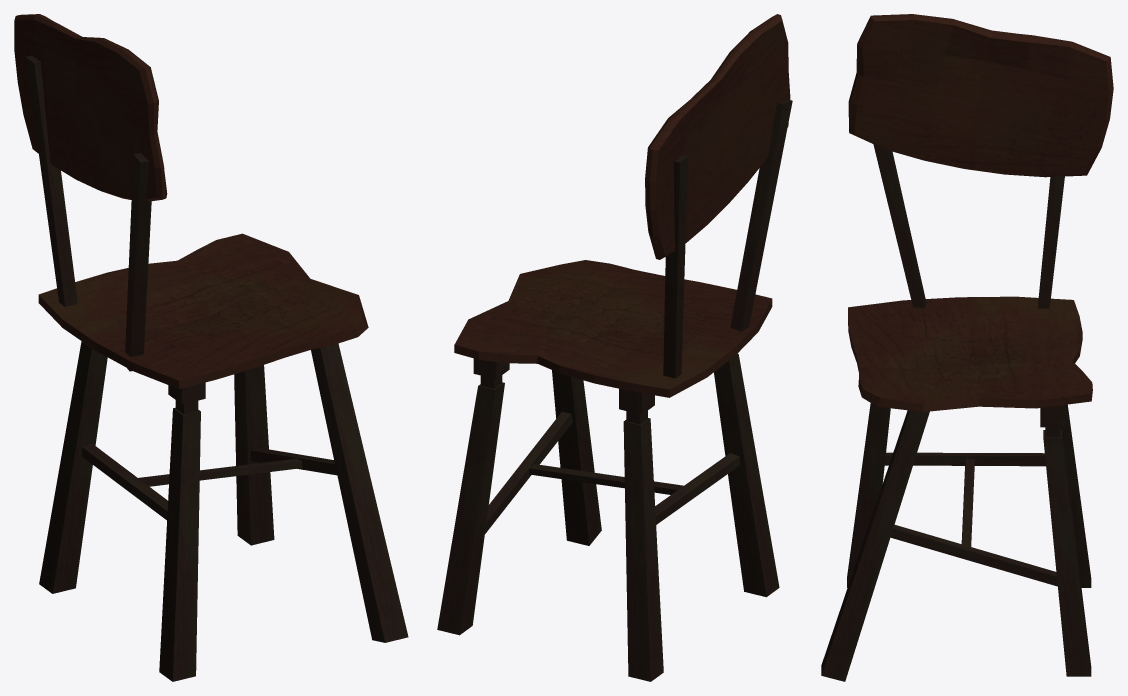
File: FPH_Chair.fbx
3 views of the same model, side by side, from view 1: azimuth 30°, elevation 25°; view 2: azimuth 150°, elevation 25°; view 3: azimuth 270°, elevation 25° (orthographic). The views are drawn at different scales.
Parts seen in each view (by area): view 1: FPH_Chair; view 2: FPH_Chair; view 3: FPH_Chair.
Boxes of the visible parts, <box> form: FPH_Chair: <box>14,14,408,681</box>; FPH_Chair: <box>437,14,792,681</box>; FPH_Chair: <box>821,14,1113,681</box>.
Size of the model in its own units: 2.68 by 6.27 by 2.95.
Materials: 1 (1 with a texture image).
